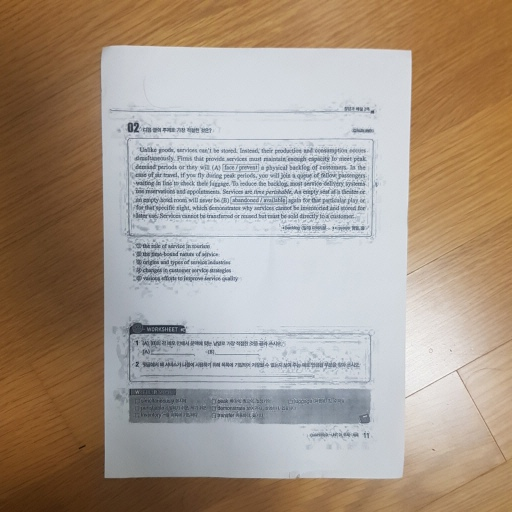Paper_2: (98, 39, 412, 485)
